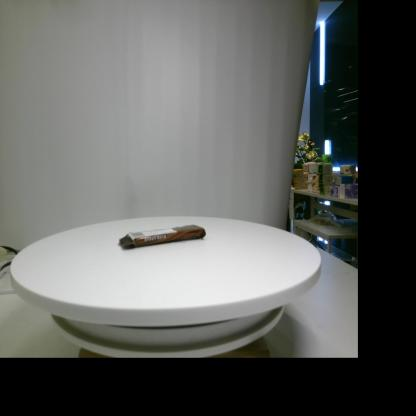Chocolate: (119, 225, 206, 250)
